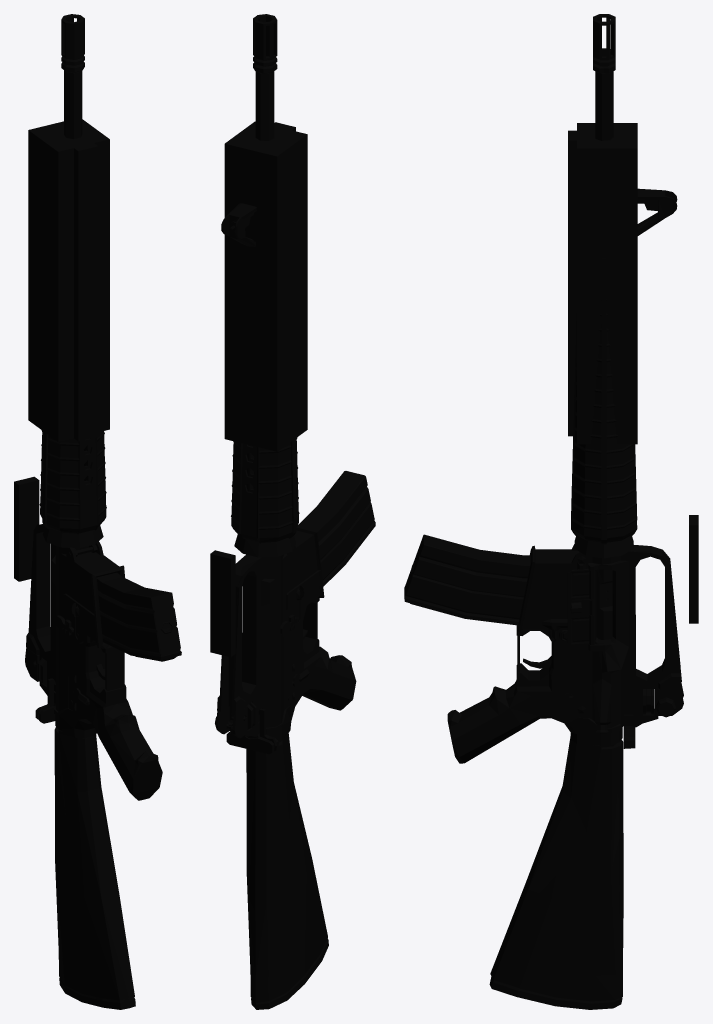
Rendered from M16A2__Handguard_AR_Quad__Mount_AR_CarryHandle.fbx.
The picture shows the model from 3 angles, left to right: view 1: azimuth 30°, elevation 25°; view 2: azimuth 150°, elevation 25°; view 3: azimuth 270°, elevation 25°; orthographic projection.
Parts seen in each view (by area): view 1: asset_M16A2.001; view 2: asset_M16A2.001; view 3: asset_M16A2.001.
Boxes of the visible parts, x1,y1,x2,y2 form: asset_M16A2.001: (14, 14, 181, 1009); asset_M16A2.001: (210, 14, 375, 1009); asset_M16A2.001: (404, 14, 698, 1009).
Bounding box in the file's own units: 0.0384 × 0.6 × 0.1624.
